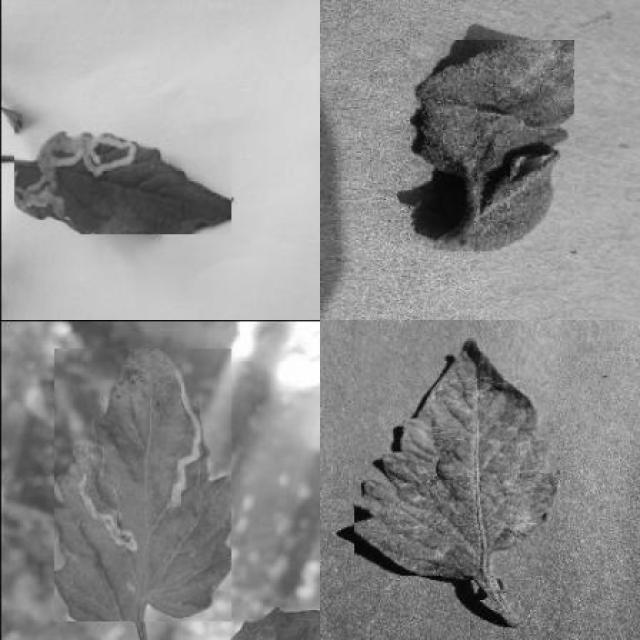Early Blight: (355, 336, 558, 576)
Late Blight: (410, 40, 574, 251)
Leaf Miner: (55, 348, 232, 622), (15, 128, 232, 235)
